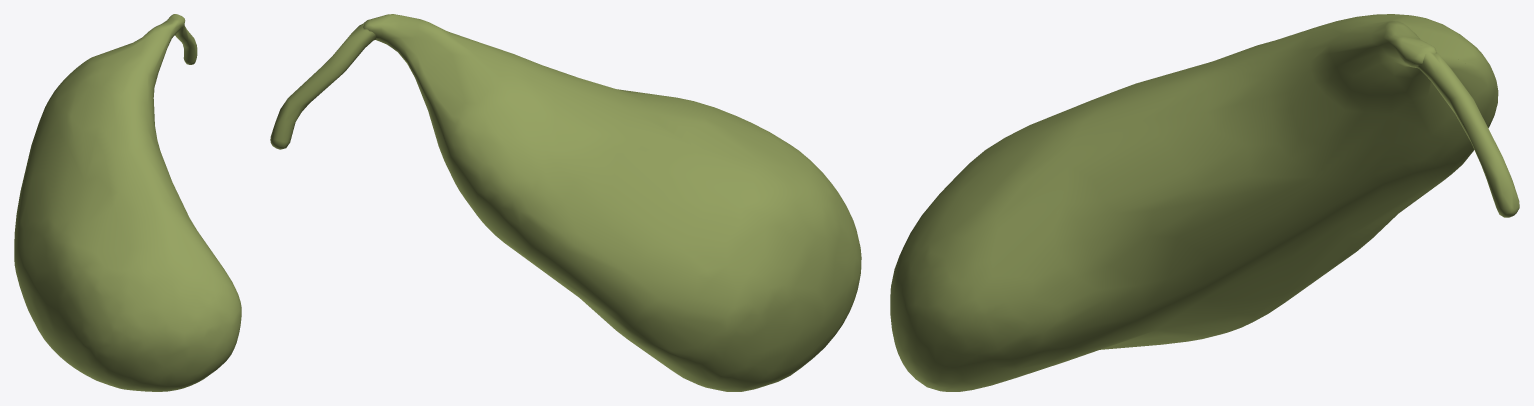
Rendered from explorar-gallbladder.glb.
The picture shows the model from 3 angles, left to right: view 1: azimuth 30°, elevation 25°; view 2: azimuth 150°, elevation 25°; view 3: azimuth 270°, elevation 25°; orthographic projection. The views are drawn at different scales.
Parts seen in each view (by area): view 1: gallbladder__cuerpo, gallbladder__fondo, gallbladder__cuello, gallbladder__conducto_cistico; view 2: gallbladder__cuerpo, gallbladder__fondo, gallbladder__cuello, gallbladder__conducto_cistico; view 3: gallbladder__cuerpo, gallbladder__fondo, gallbladder__cuello, gallbladder__conducto_cistico.
Part boxes in pixels (left/top/right/bottom): gallbladder__cuerpo: left=14, top=43, right=240, bottom=332; gallbladder__fondo: left=15, top=268, right=241, bottom=391; gallbladder__cuello: left=126, top=14, right=185, bottom=95; gallbladder__conducto_cistico: left=175, top=15, right=197, bottom=64; gallbladder__cuerpo: left=429, top=43, right=856, bottom=347; gallbladder__fondo: left=617, top=229, right=861, bottom=391; gallbladder__cuello: left=363, top=14, right=483, bottom=143; gallbladder__conducto_cistico: left=270, top=19, right=376, bottom=149; gallbladder__cuerpo: left=895, top=14, right=1498, bottom=321; gallbladder__fondo: left=890, top=236, right=1368, bottom=391; gallbladder__cuello: left=1315, top=20, right=1475, bottom=111; gallbladder__conducto_cistico: left=1416, top=45, right=1519, bottom=217.
Bounding box in the file's own units: 0.0424 × 0.0404 × 0.0501.
